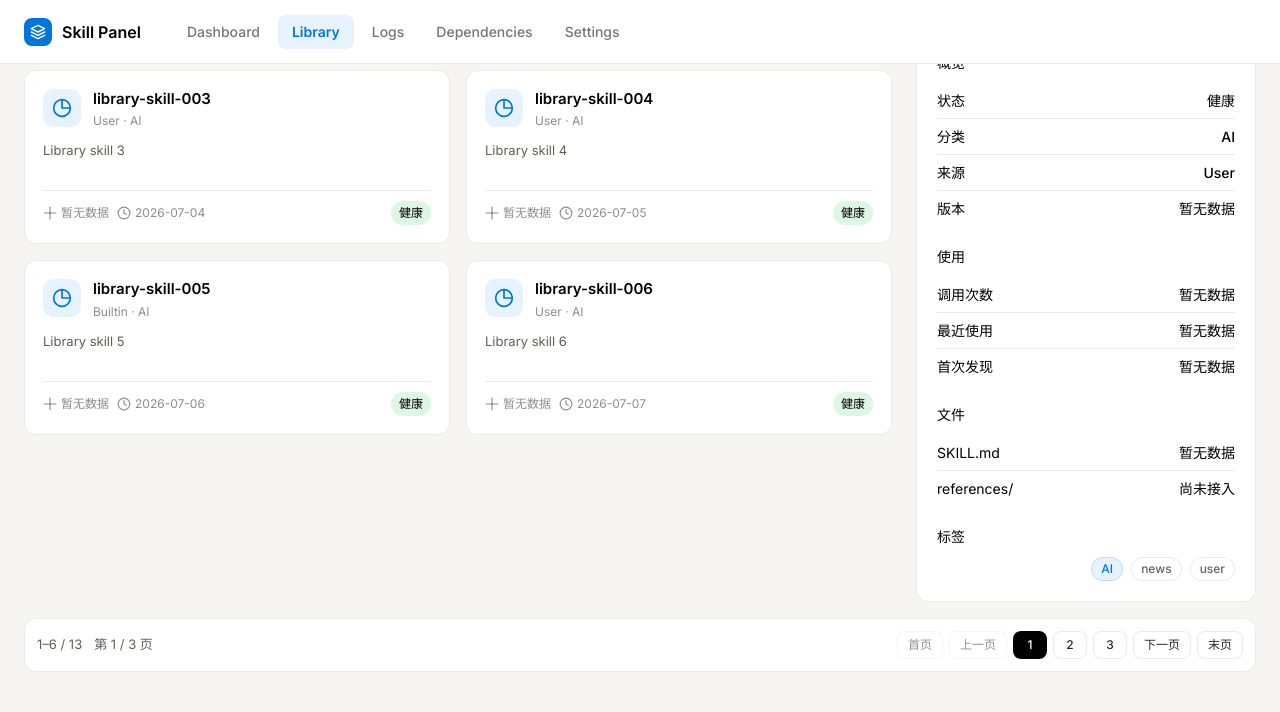
Test: AppShell Tauri event fallback › does not repeat or skip skills while paging
The width and height of the screenshot is (1280, 712).
(page scrolled)
Expected: the text "library-skill-006" is shown, [535,279,653,300]
Click the button "下一页".
click(1162, 645)  # box [1133,631,1191,659]
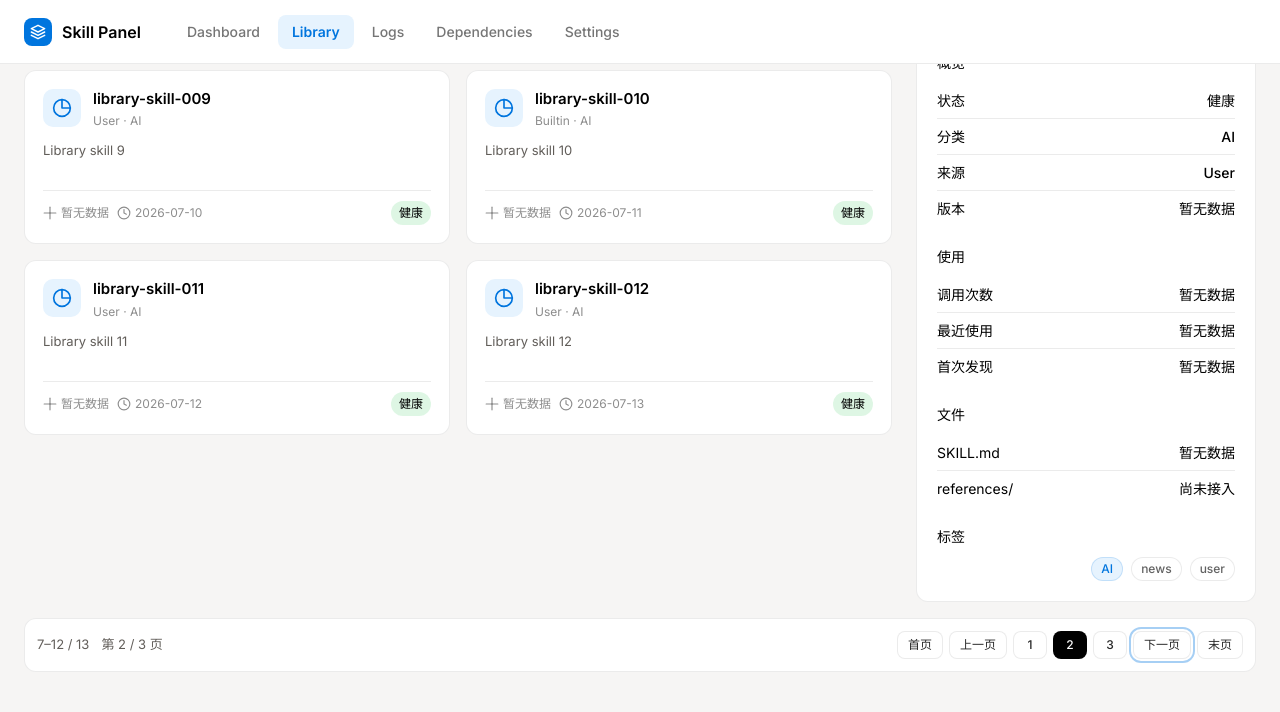
Expected: the text "library-skill-012" is shown, [535,279,649,300]
Expected: the button "library-skill-006" is gone
Click the button "下一页".
click(1162, 645)  # box [1133,631,1191,659]
(page scrolled)
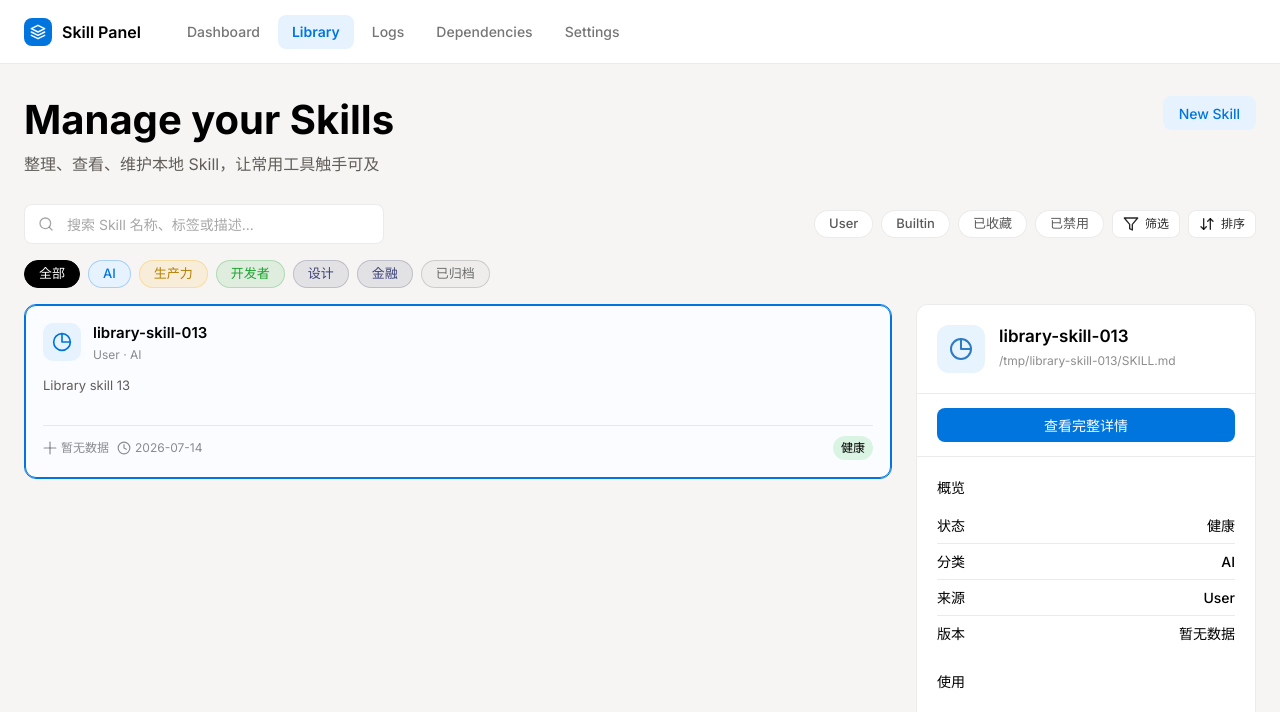
Expected: the text "library-skill-013" is shown, [93,323,207,343]
Expected: the button "library-skill-012" is gone
